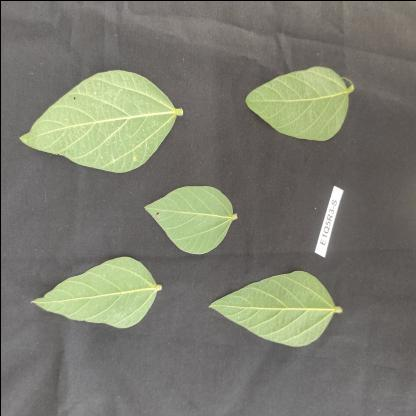label: (302, 178, 350, 266)
leaflets: (6, 66, 182, 179), (24, 244, 166, 353), (235, 51, 378, 150), (215, 261, 344, 353), (141, 178, 237, 262)
